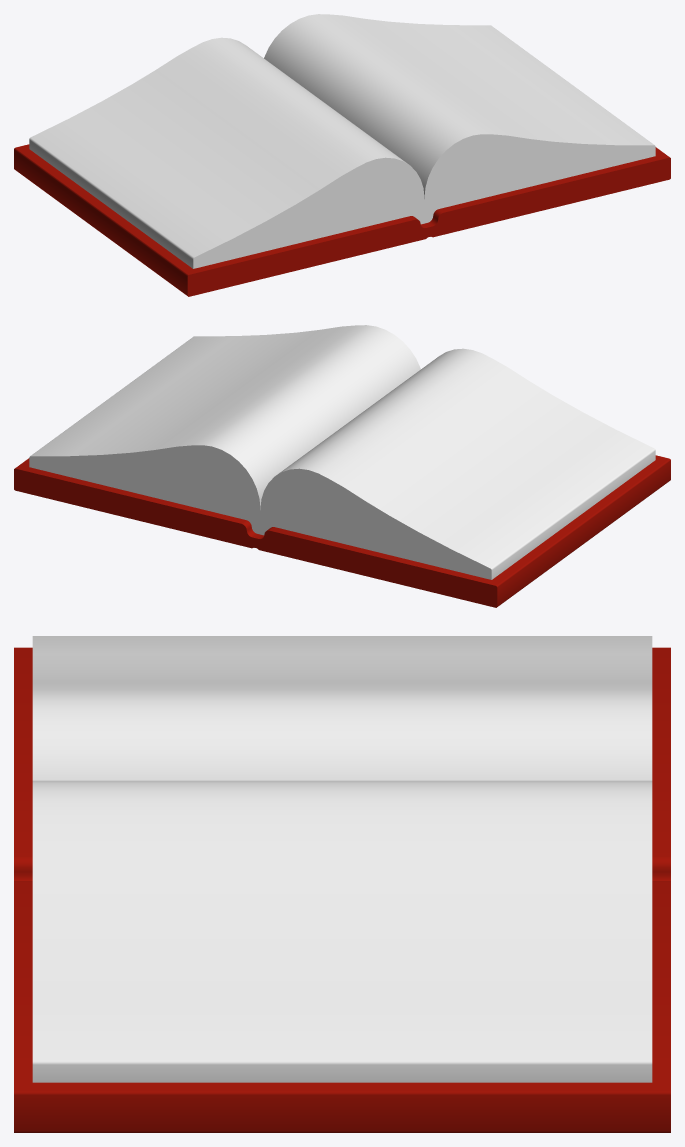
File: Book.fbx
The picture shows the model from 3 angles, top to bottom: view 1: azimuth 30°, elevation 25°; view 2: azimuth 150°, elevation 25°; view 3: azimuth 270°, elevation 25°; orthographic projection. The views are drawn at different scales.
Visible parts, largest first — view 1: Book; view 2: Book; view 3: Book.
Boxes of the visible parts, <box> form: Book: <box>14,14,670,296</box>; Book: <box>14,325,670,607</box>; Book: <box>14,636,670,1132</box>.
Bounding box in the file's own units: 32.1 × 5.55 × 20.
